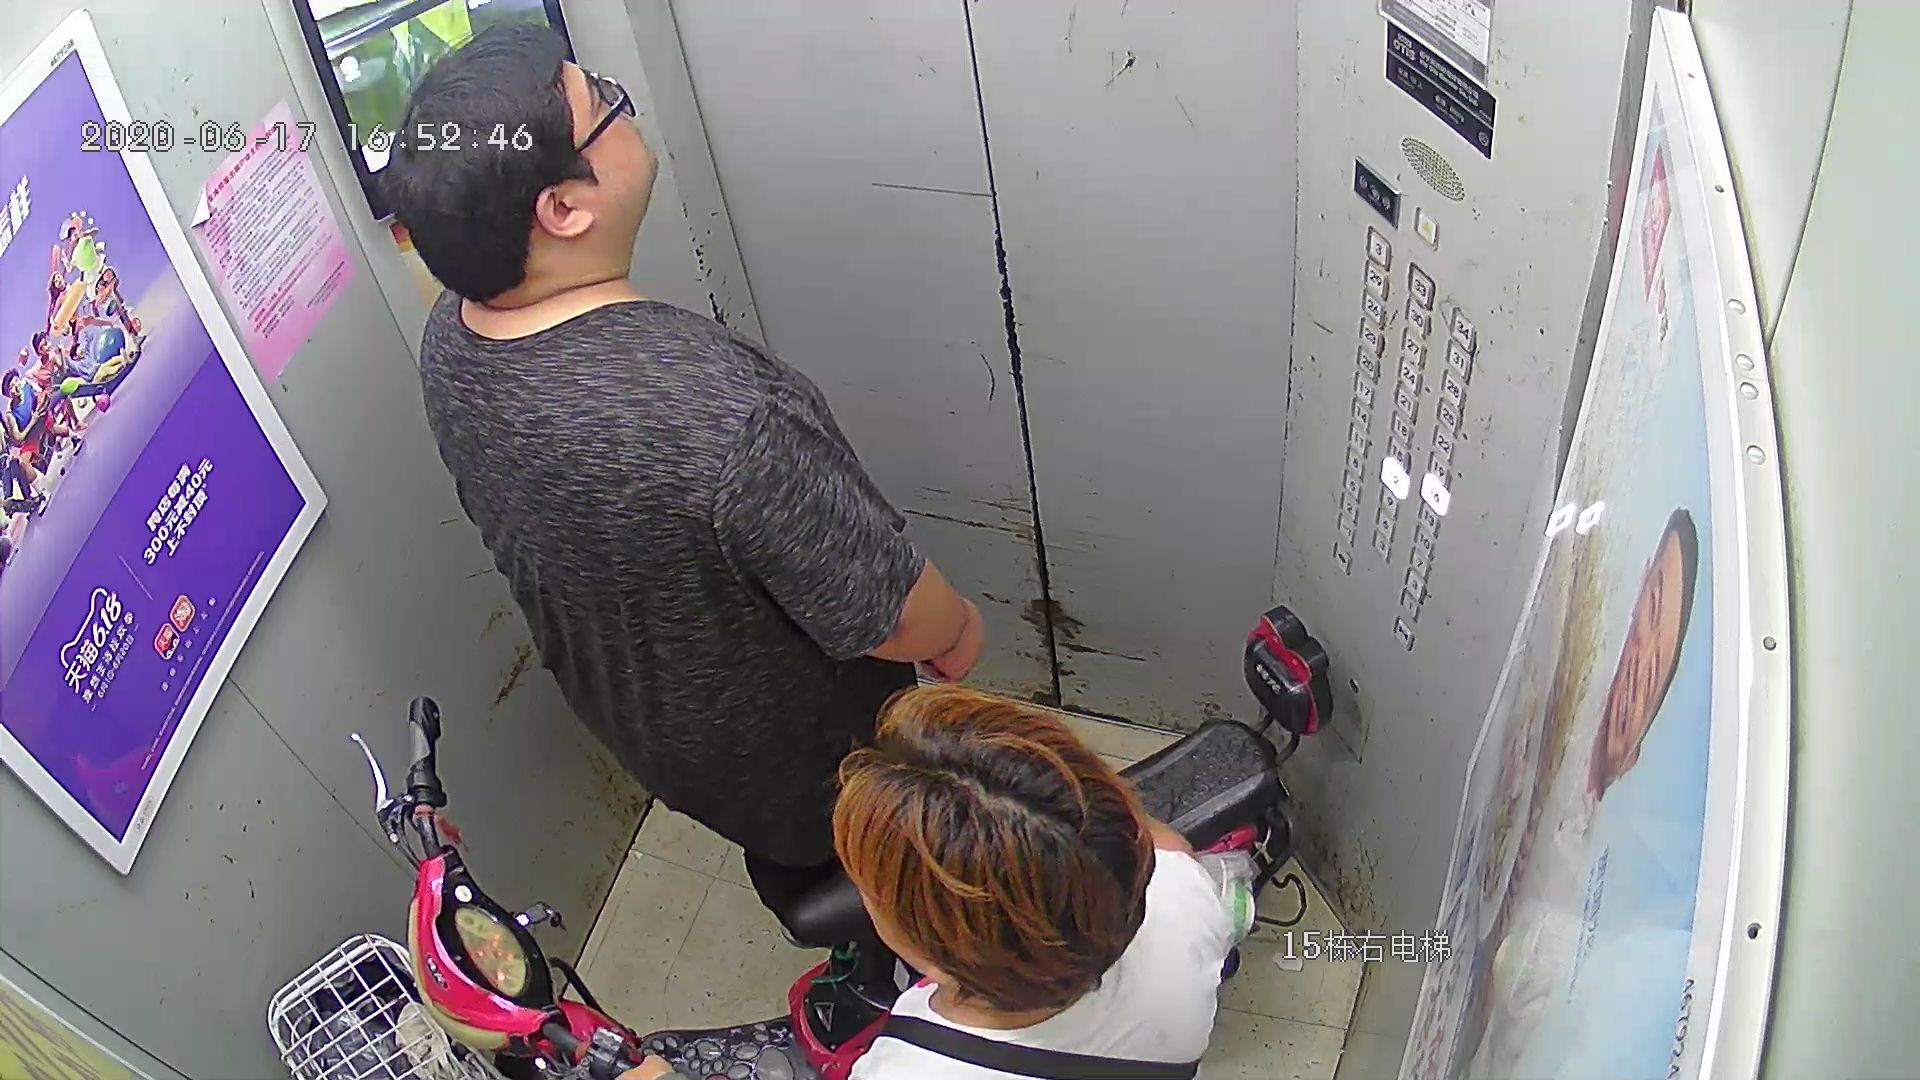Electric-bicycle: (276, 616, 1319, 1073)
